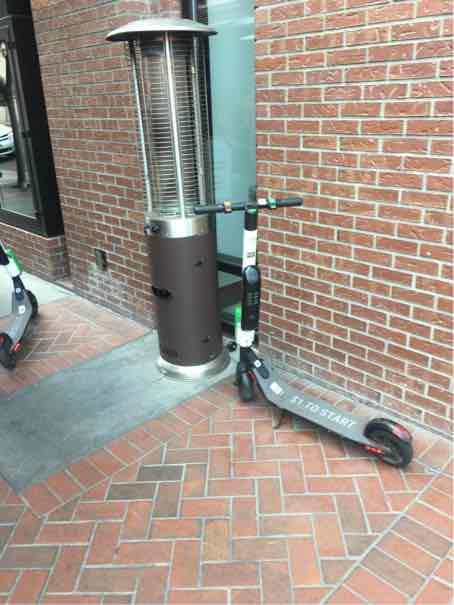scooter: (194, 194, 418, 472), (1, 221, 47, 369)
